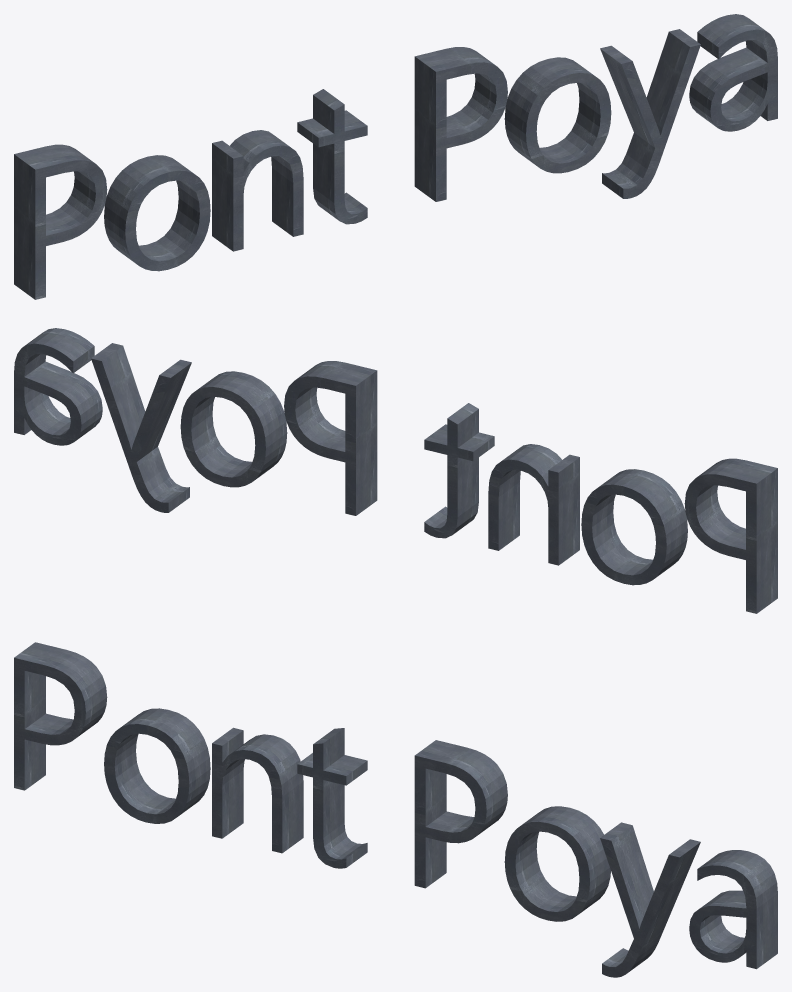
File: Pont poya .fbx
3 renders of one model, top to bottom at view 1: azimuth 30°, elevation 25°; view 2: azimuth 150°, elevation 25°; view 3: azimuth 330°, elevation 25°, orthographic.
Parts seen in each view (by area): view 1: Métal - Fer; view 2: Métal - Fer; view 3: Métal - Fer.
Boxes of the visible parts, x1,y1,x2,y2 form: Métal - Fer: (14, 14, 777, 299); Métal - Fer: (14, 328, 777, 613); Métal - Fer: (14, 642, 777, 977).
Bounding box in the file's own units: 605 × 30 × 135.
Materials: 1 (1 with a texture image).
